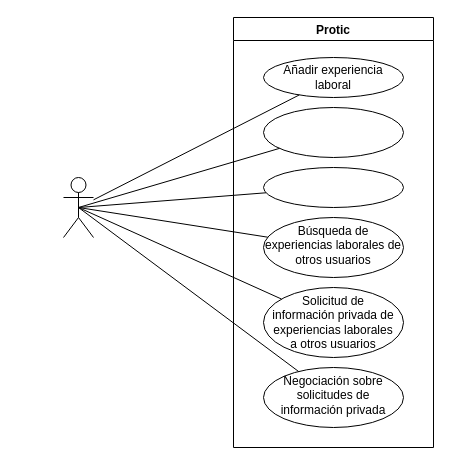
Some shapes in this 451 by 465 pixel diagram are drawn without their labels. Here are the shapes that lost their labels. From the top down, the centre of each, then its label:
(333,132): Modificar experiencia laboral
(78,207): Usuario (con cuenta de Github)
(333,187): Eliminar experiencia laboral
